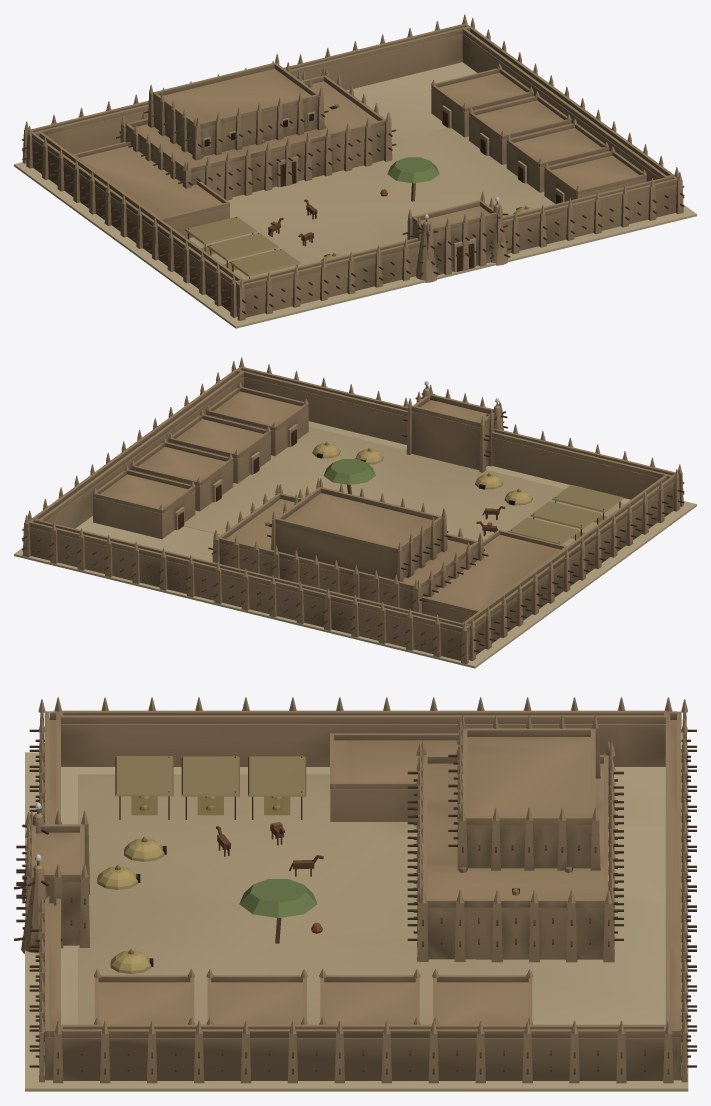
The model's file is madugu.glb.
3 views of the same model, one above another, from view 1: azimuth 30°, elevation 25°; view 2: azimuth 150°, elevation 25°; view 3: azimuth 270°, elevation 25° (orthographic). The views are drawn at different scales.
Visible parts, largest first — view 1: p2_palace, p1_walls, p0_ground, p3_court; view 2: p1_walls, p2_palace, p0_ground, p3_court; view 3: p0_ground, p1_walls, p2_palace, p3_court.
Boxes of the visible parts, x1=… form: p2_palace: x1=73, y1=54, x2=646, y2=238; p1_walls: x1=22, y1=14, x2=684, y2=320; p0_ground: x1=14, y1=62, x2=696, y2=328; p3_court: x1=158, y1=104, x2=534, y2=278; p1_walls: x1=22, y1=357, x2=684, y2=664; p2_palace: x1=93, y1=382, x2=566, y2=622; p0_ground: x1=14, y1=421, x2=696, y2=668; p3_court: x1=265, y1=441, x2=623, y2=577; p0_ground: x1=25, y1=752, x2=688, y2=1091; p1_walls: x1=14, y1=697, x2=696, y2=1083; p2_palace: x1=94, y1=715, x2=623, y2=1024; p3_court: x1=97, y1=756, x2=572, y2=973.
Bounding box in the file's own units: 60 × 9.77 × 51.48.
